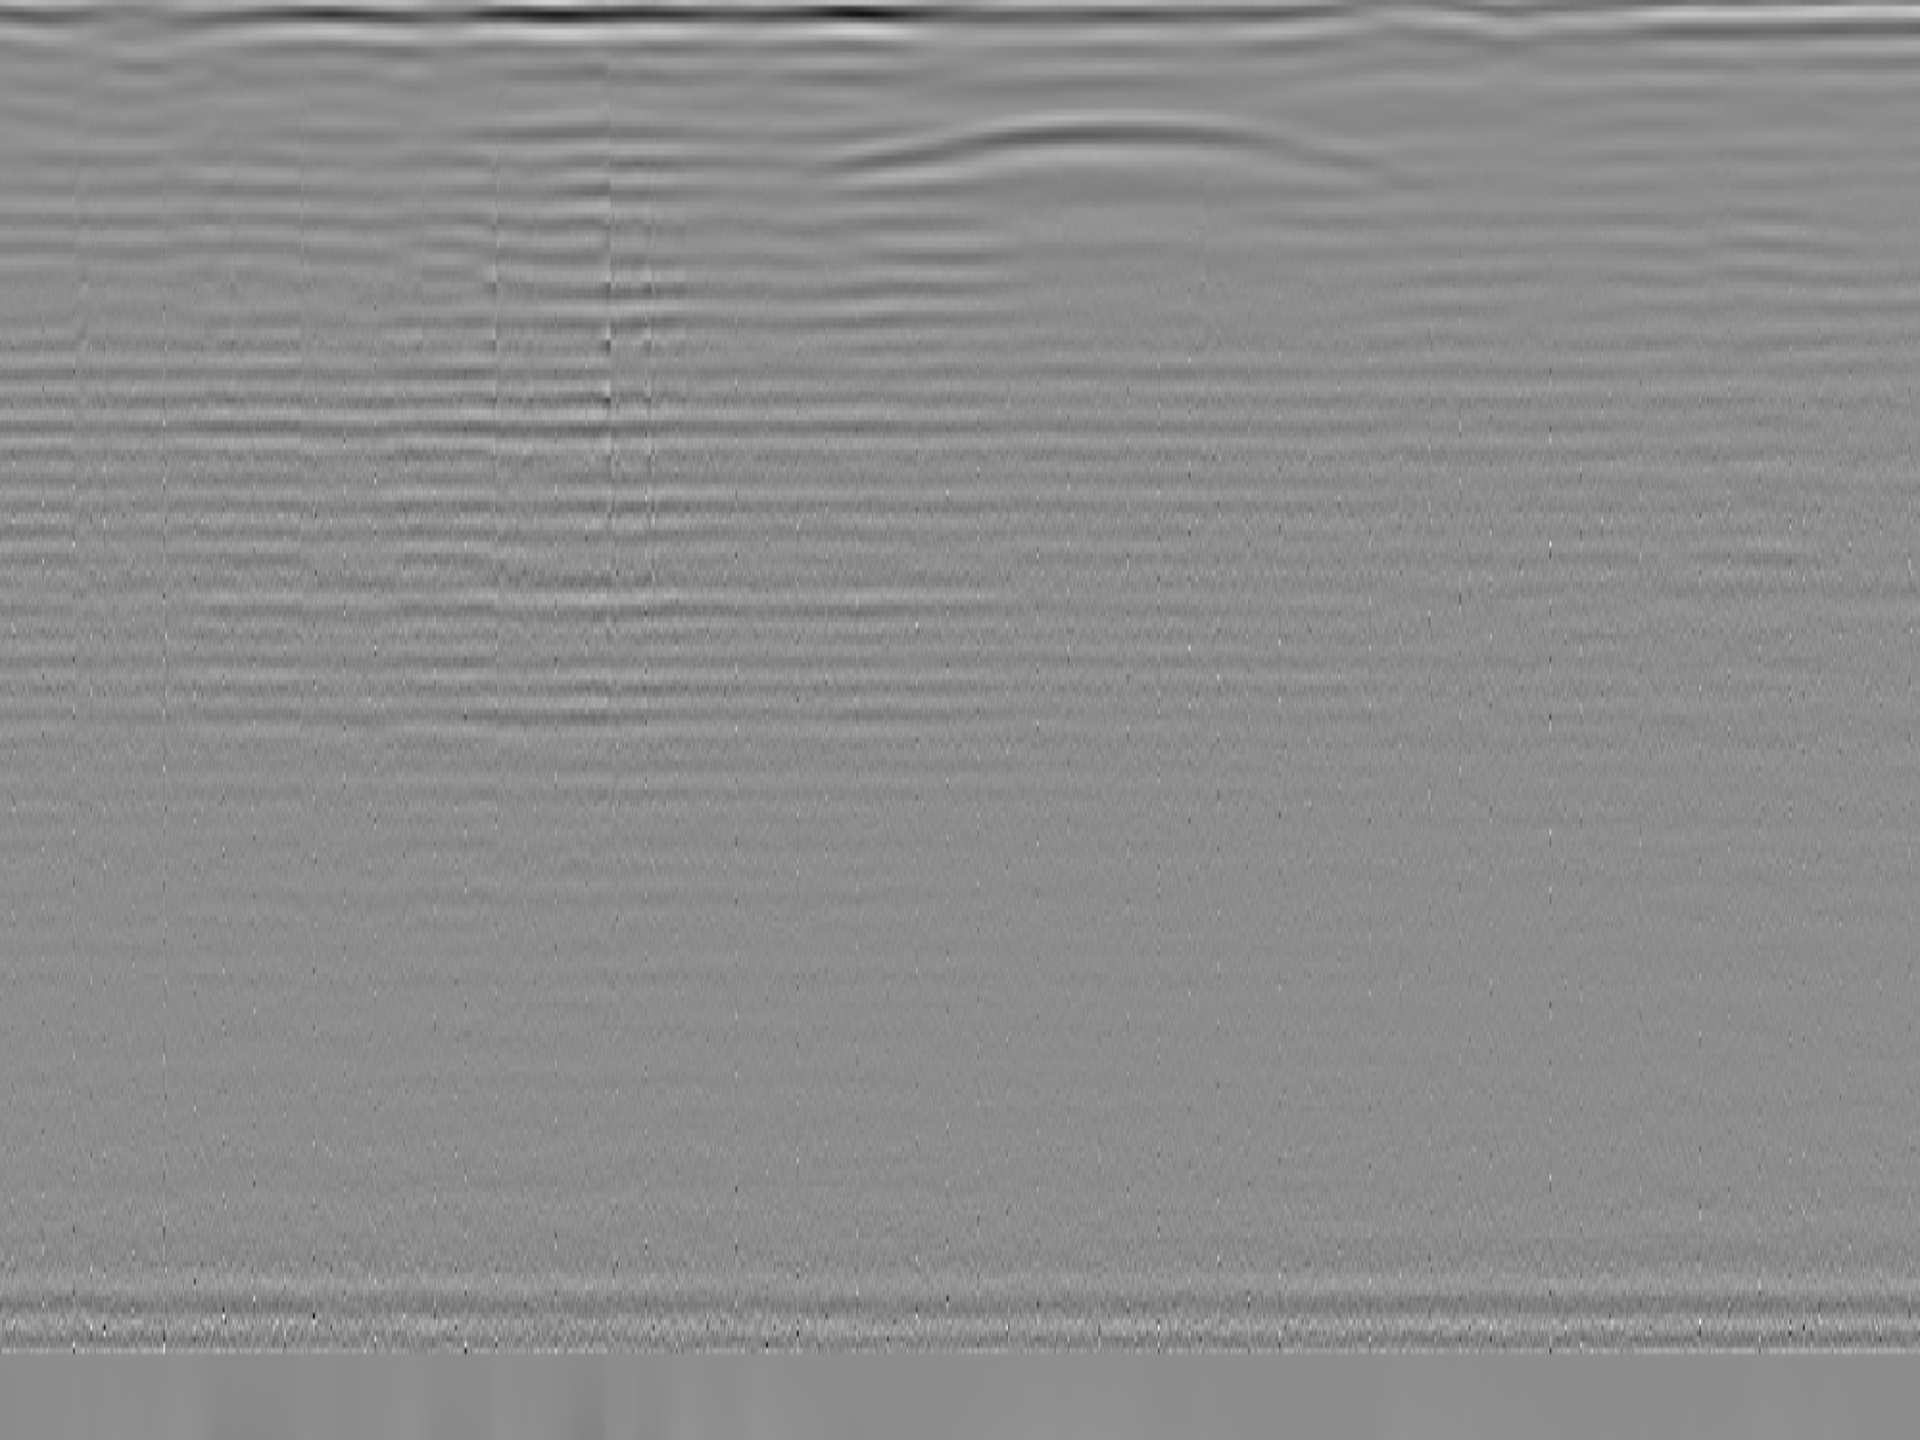Tunnel: (819, 115, 1403, 185)
